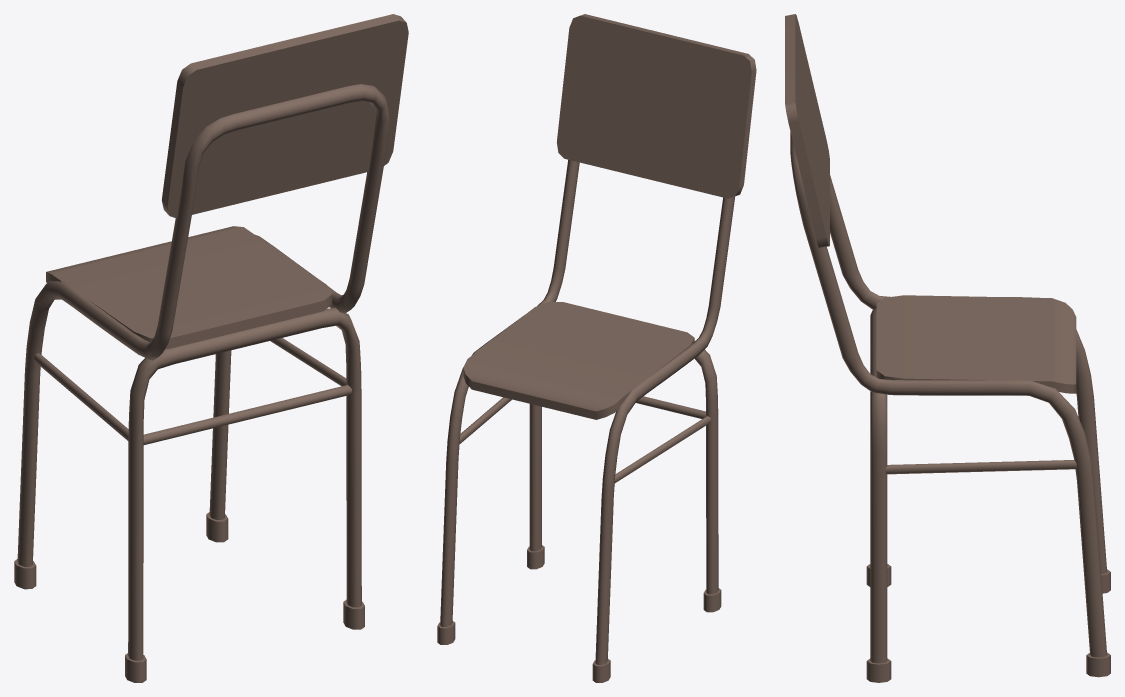
File: Silla.fbx
3 renders of one model, left to right at view 1: azimuth 30°, elevation 25°; view 2: azimuth 150°, elevation 25°; view 3: azimuth 270°, elevation 25°, orthographic. The views are drawn at different scales.
Visible parts, largest first — view 1: Silla; view 2: Silla; view 3: Silla.
Part boxes in pixels (box(x1,y1,x2,y2)): Silla: box(14, 14, 408, 682); Silla: box(437, 14, 756, 682); Silla: box(785, 14, 1110, 682).
Bounding box in the file's own units: 0.4552 × 1.19 × 0.6145.
